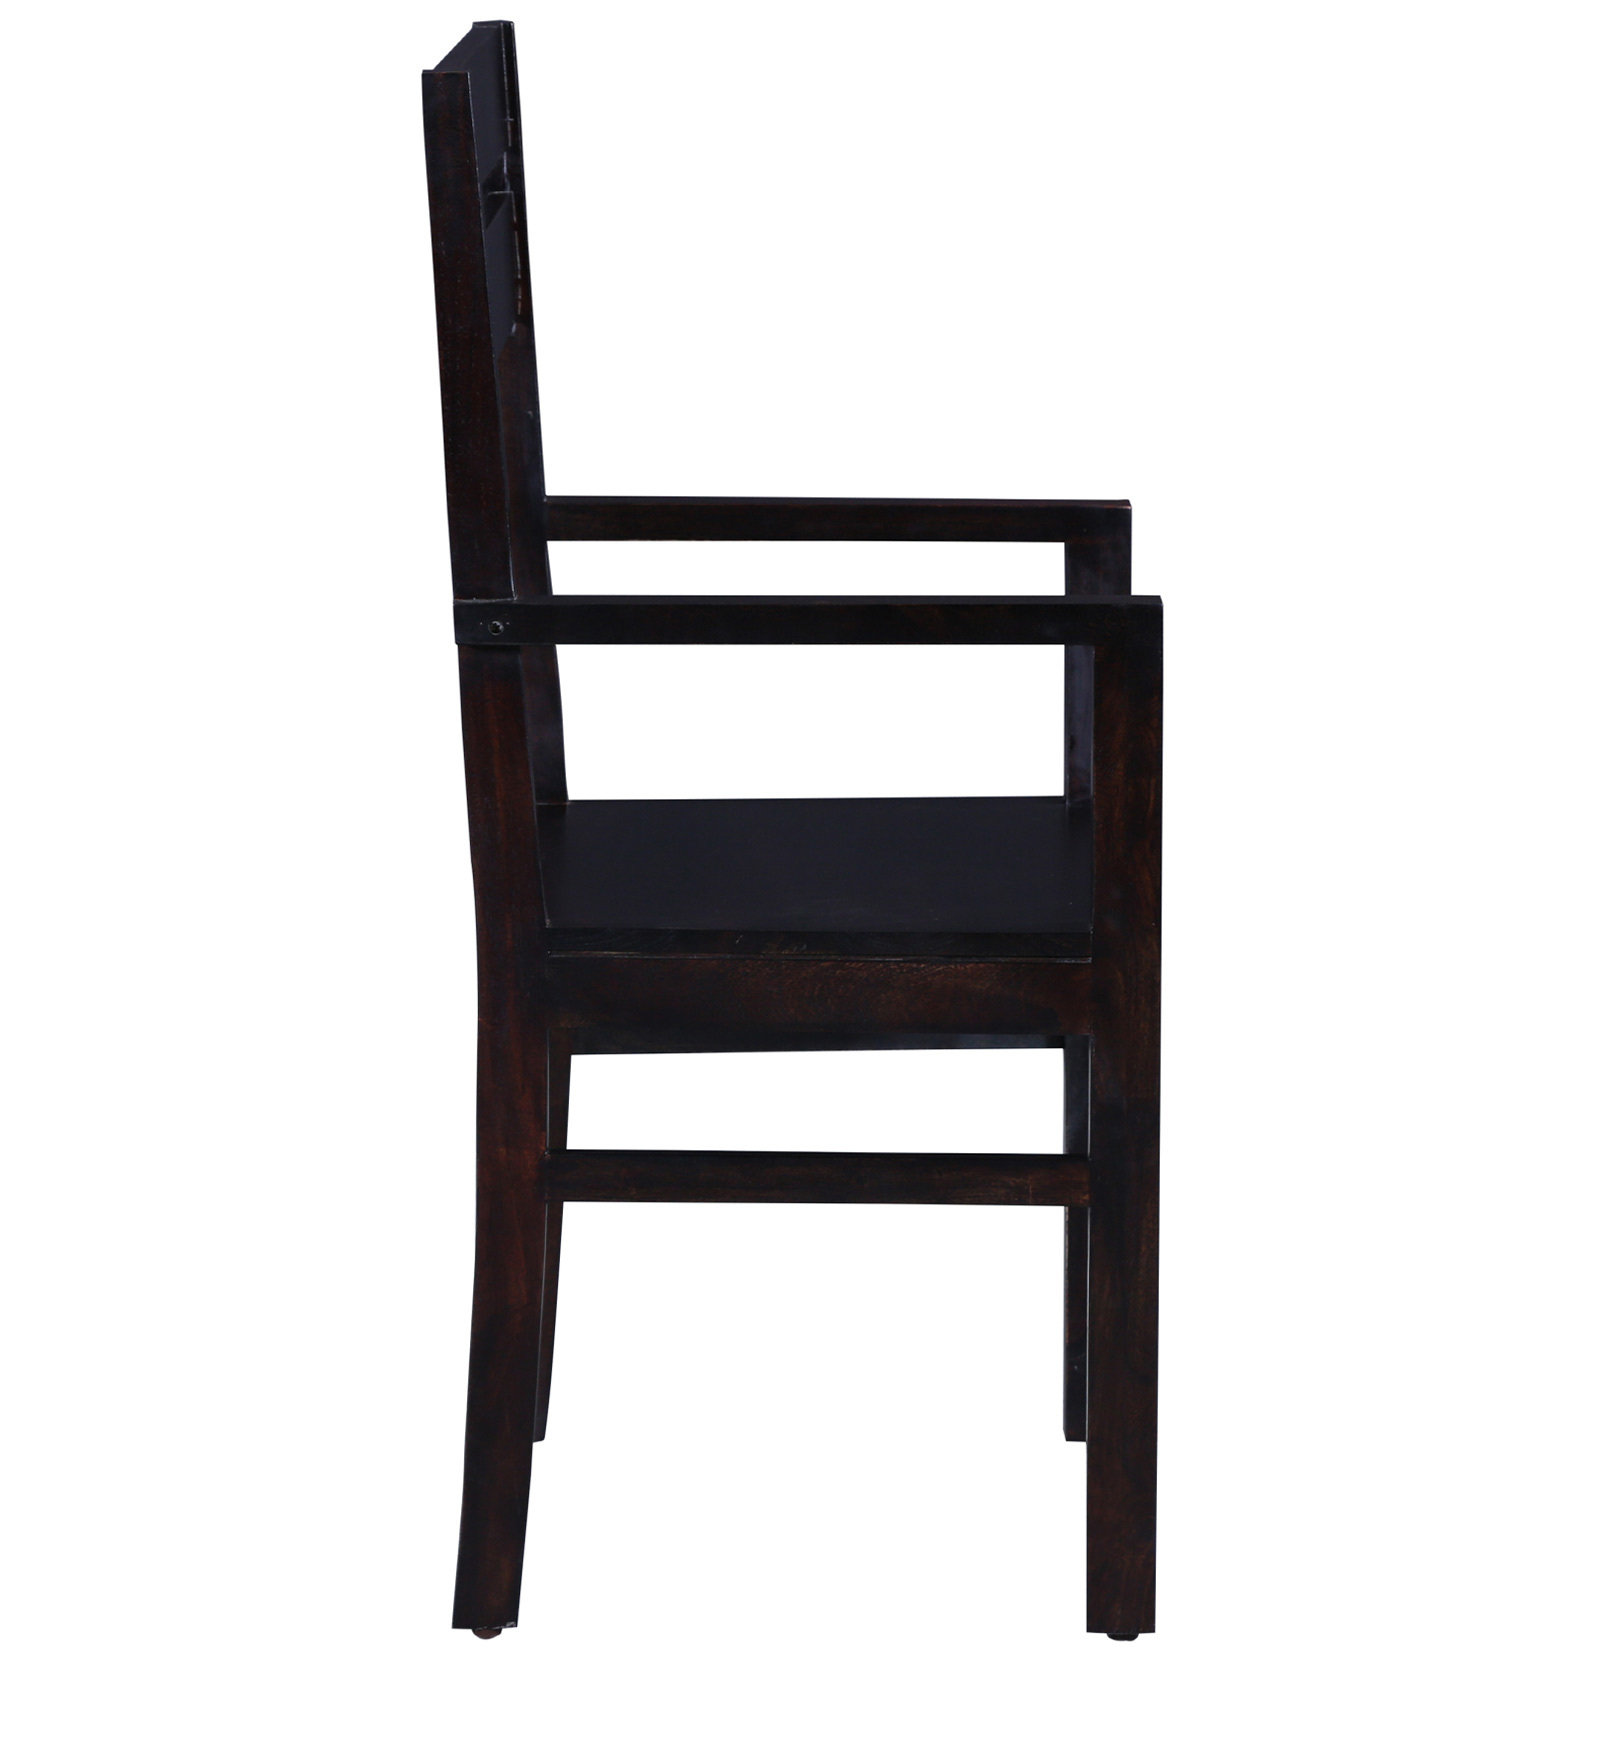Enkel Arm Chair in Warm Chestnut Finish by Woodsworth: (371, 8, 1234, 1712)
